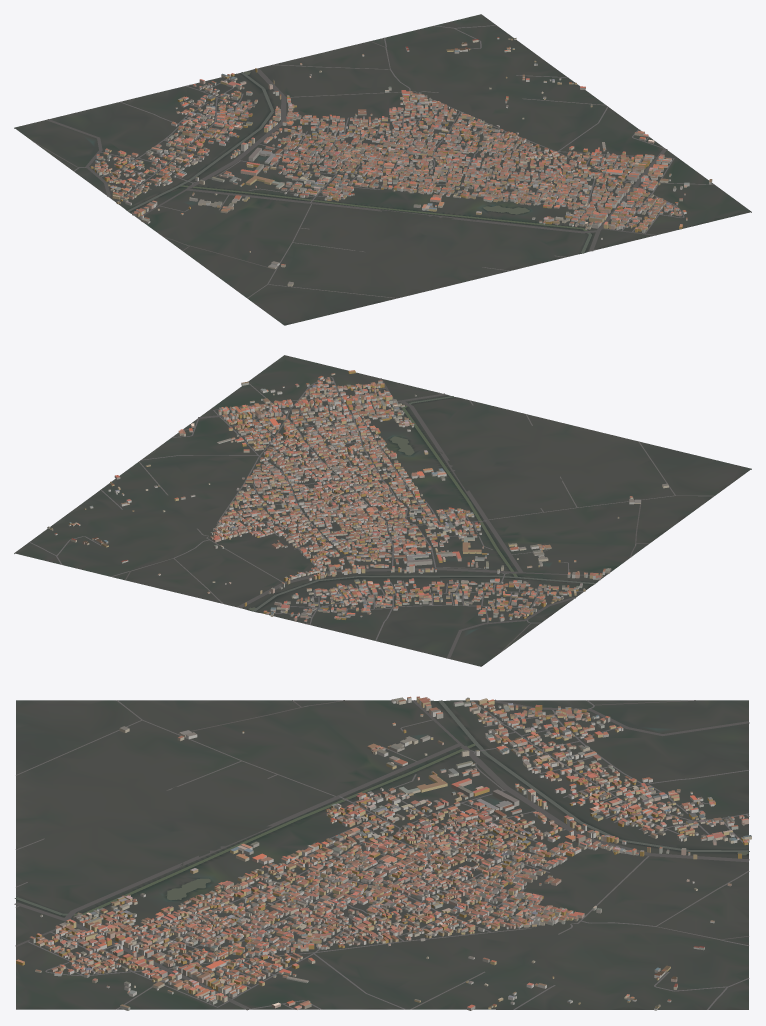
3 renders of one model, top to bottom at view 1: azimuth 30°, elevation 25°; view 2: azimuth 150°, elevation 25°; view 3: azimuth 270°, elevation 25°, orthographic. The views are drawn at different scales.
Parts seen in each view (by area): view 1: ground, buildings, roads, water; view 2: ground, buildings, roads, water; view 3: ground, buildings, roads, water.
Part boxes in pixels (left/top/right/bottom): ground: left=14, top=14, right=751, bottom=325; buildings: left=90, top=37, right=712, bottom=286; roads: left=33, top=25, right=714, bottom=298; water: left=127, top=71, right=591, bottom=253; ground: left=14, top=355, right=751, bottom=666; buildings: left=47, top=370, right=668, bottom=622; roads: left=29, top=376, right=714, bottom=658; water: left=248, top=396, right=595, bottom=611; ground: left=16, top=700, right=748, bottom=1009; buildings: left=16, top=696, right=751, bottom=1010; roads: left=14, top=699, right=749, bottom=1010; water: left=14, top=700, right=749, bottom=915.
Size of the model in its own units: 1407 by 23.49 by 1411.
